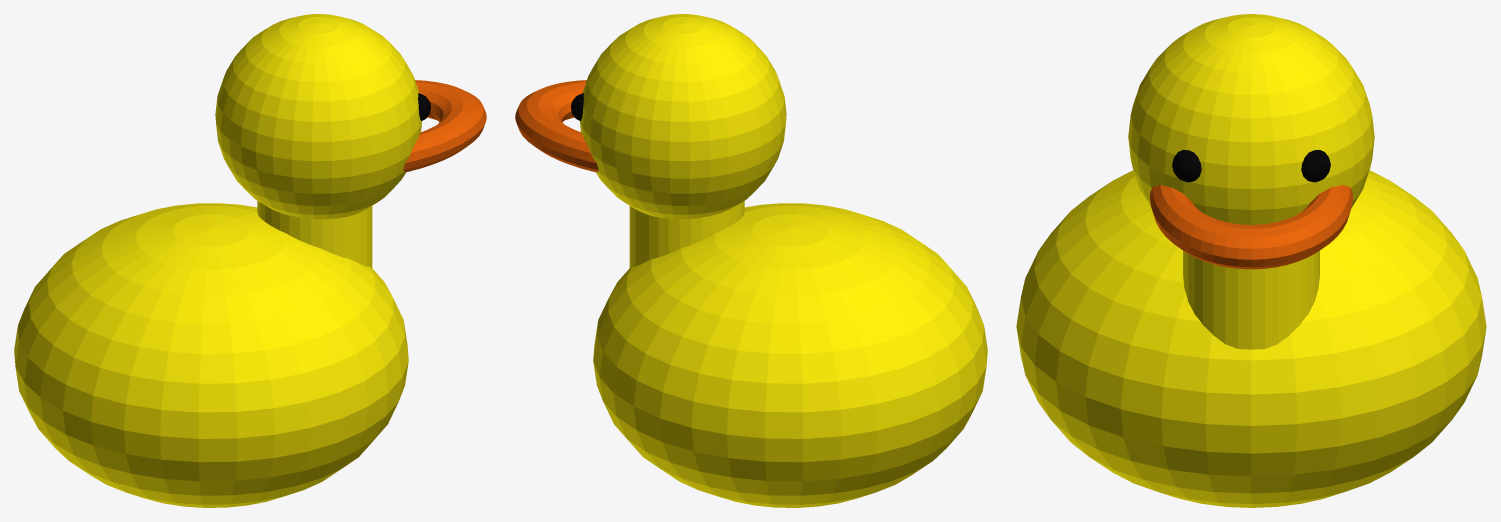
Rendered from pato.glb.
3 views of the same model, side by side, from view 1: azimuth 30°, elevation 25°; view 2: azimuth 150°, elevation 25°; view 3: azimuth 270°, elevation 25° (orthographic). The views are drawn at different scales.
Parts seen in each view (by area): view 1: Sphere; view 2: Sphere; view 3: Sphere, Sphere.001.
Boxes of the visible parts, left/top/right/bottom form: Sphere: left=14, top=14, right=486, bottom=507; Sphere: left=515, top=14, right=987, bottom=507; Sphere: left=1016, top=14, right=1486, bottom=507; Sphere.001: left=1172, top=150, right=1330, bottom=182.
Size of the model in its own units: 2.56 by 2.42 by 2.
